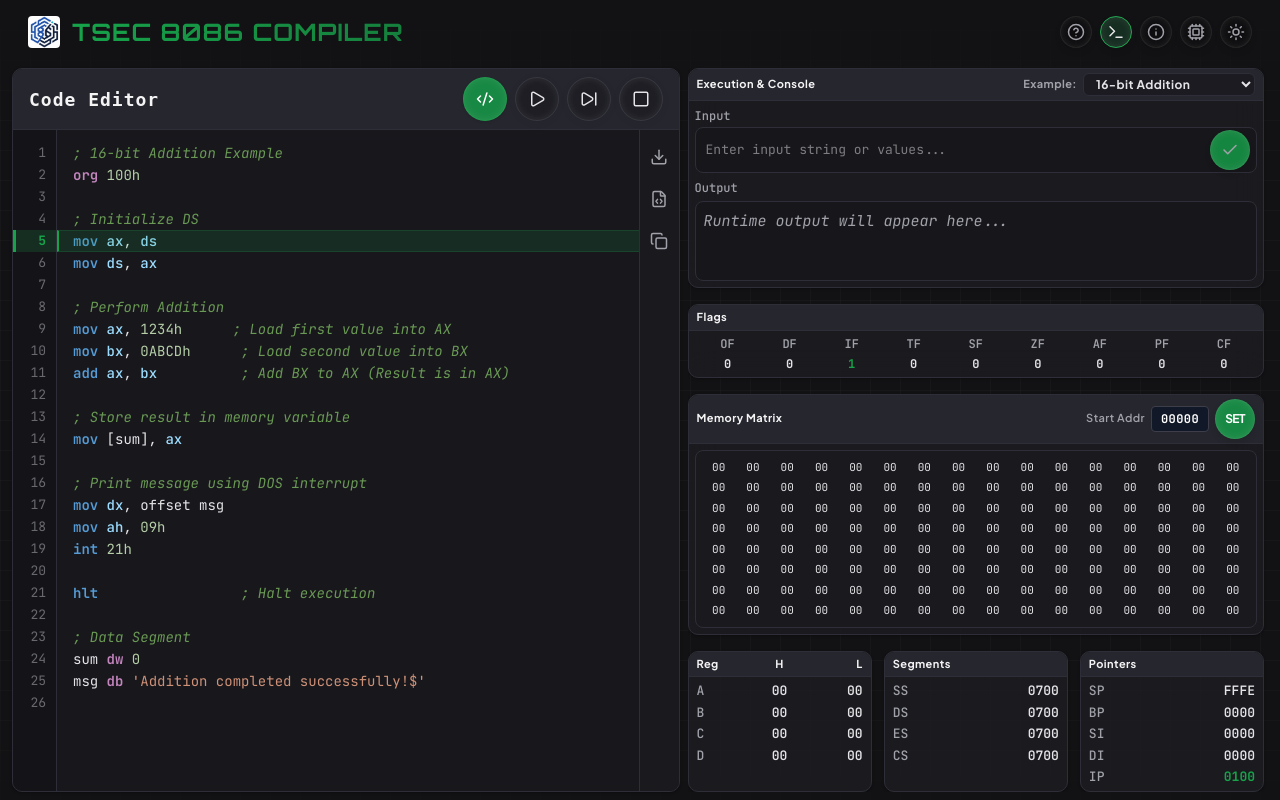
Test: Milestone 6: App State & Data Flow Security › XSS Protection: Escapes malicious inputs in code editor preventing execution in error logs
This screenshot has width=1280, height=800.
Replace the text in the text box with class "yj-code-textarea" with "JMP <img src=x onerror=alert(1)>" at (348, 460), box [57,130,638,790]
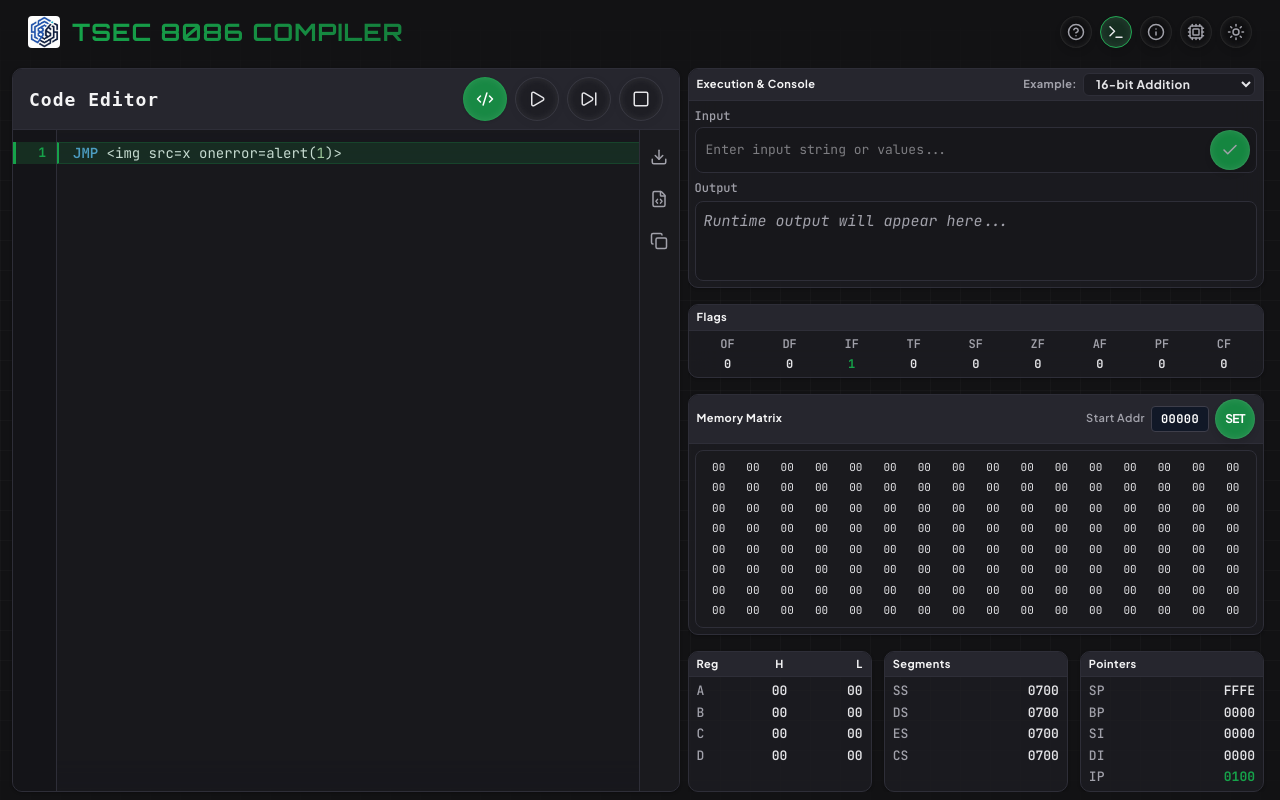
Click the button titled "Compile Code" at (484, 99), box [462,77,506,121]
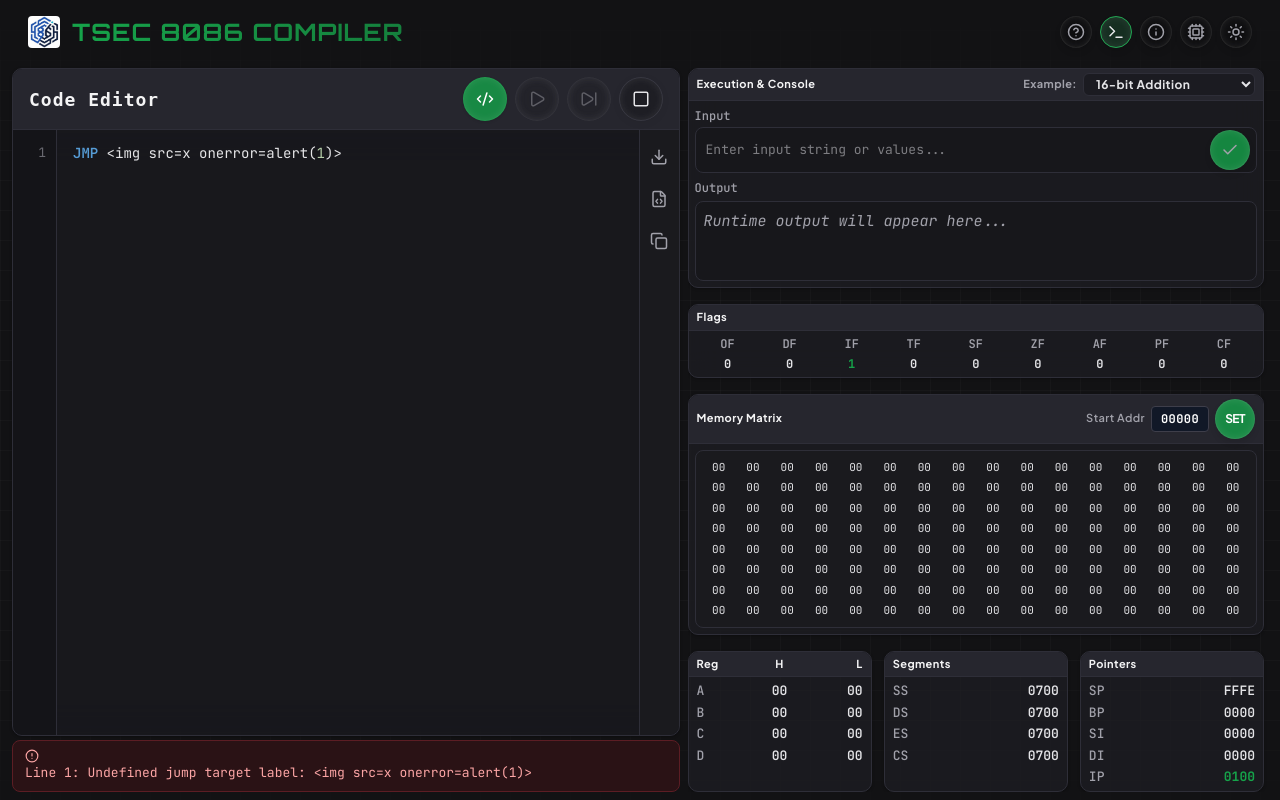
Expected: the element with class "yj-error-box" is shown, [12,740,680,792]
